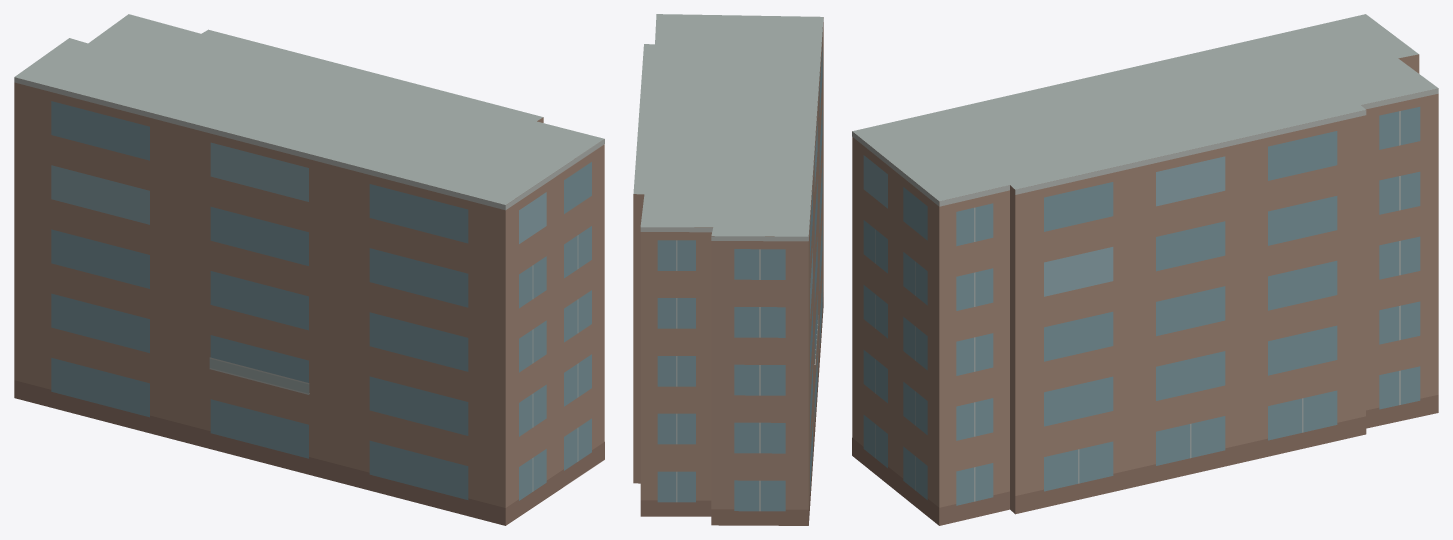
File: survey-upis-32961856.glb
The picture shows the model from 3 angles, left to right: view 1: azimuth 30°, elevation 25°; view 2: azimuth 150°, elevation 25°; view 3: azimuth 270°, elevation 25°; orthographic projection. The views are drawn at different scales.
Parts seen in each view (by area): view 1: survey-upis-32961856.tmp; view 2: survey-upis-32961856.tmp; view 3: survey-upis-32961856.tmp.
Part boxes in pixels (box(x1,y1,x2,y2)): survey-upis-32961856.tmp: box(14, 14, 604, 525); survey-upis-32961856.tmp: box(633, 14, 823, 525); survey-upis-32961856.tmp: box(852, 14, 1438, 525).
Size of the model in its own units: 18.4 by 14.85 by 24.34.
